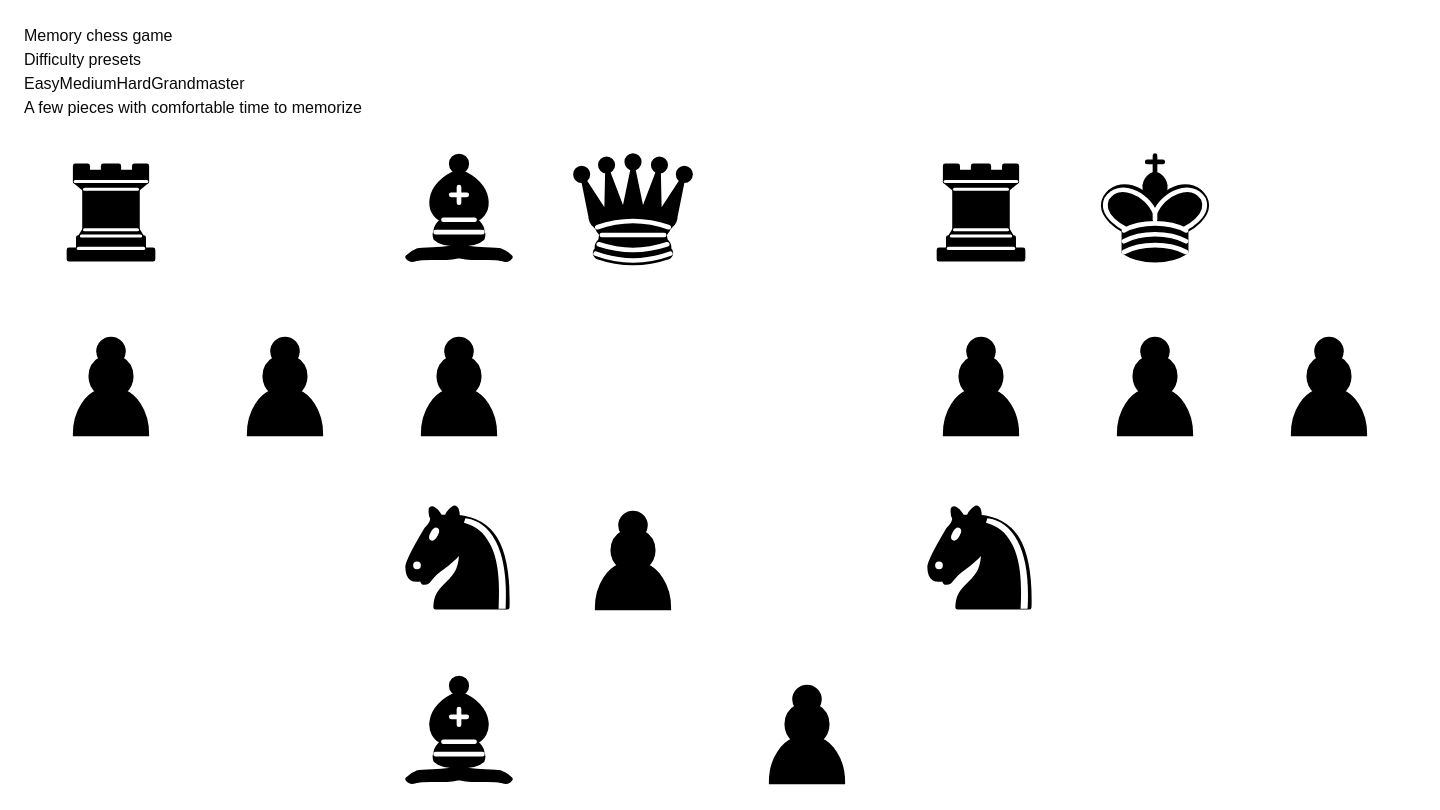
rating preview on the setup card › sums up the board in one line and keeps the details closed until asked
Click the button "Hard" at (134, 84), box left=116, top=72, right=151, bottom=96
(page scrolled)
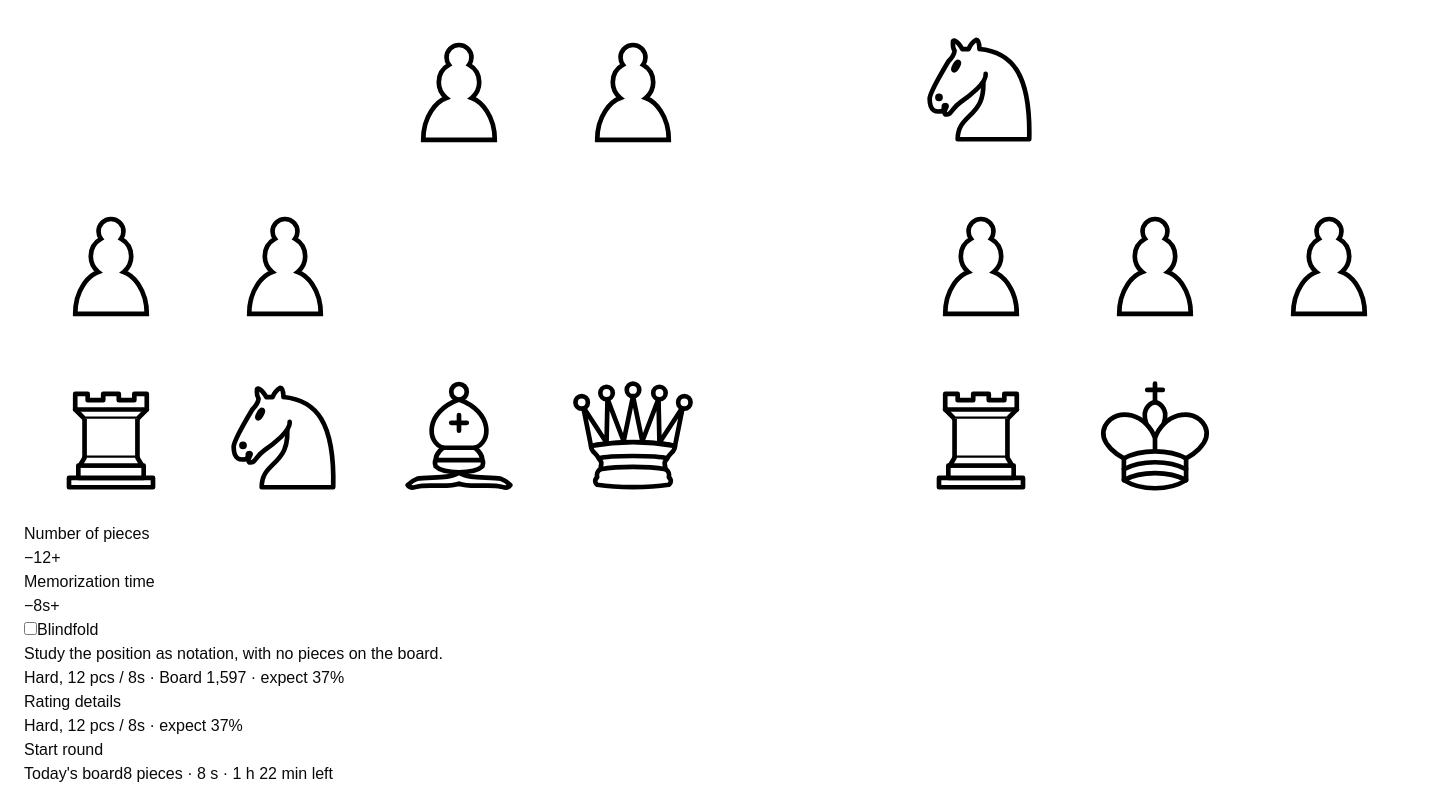
Click the button "Rating details" at (72, 702), box left=24, top=690, right=121, bottom=714
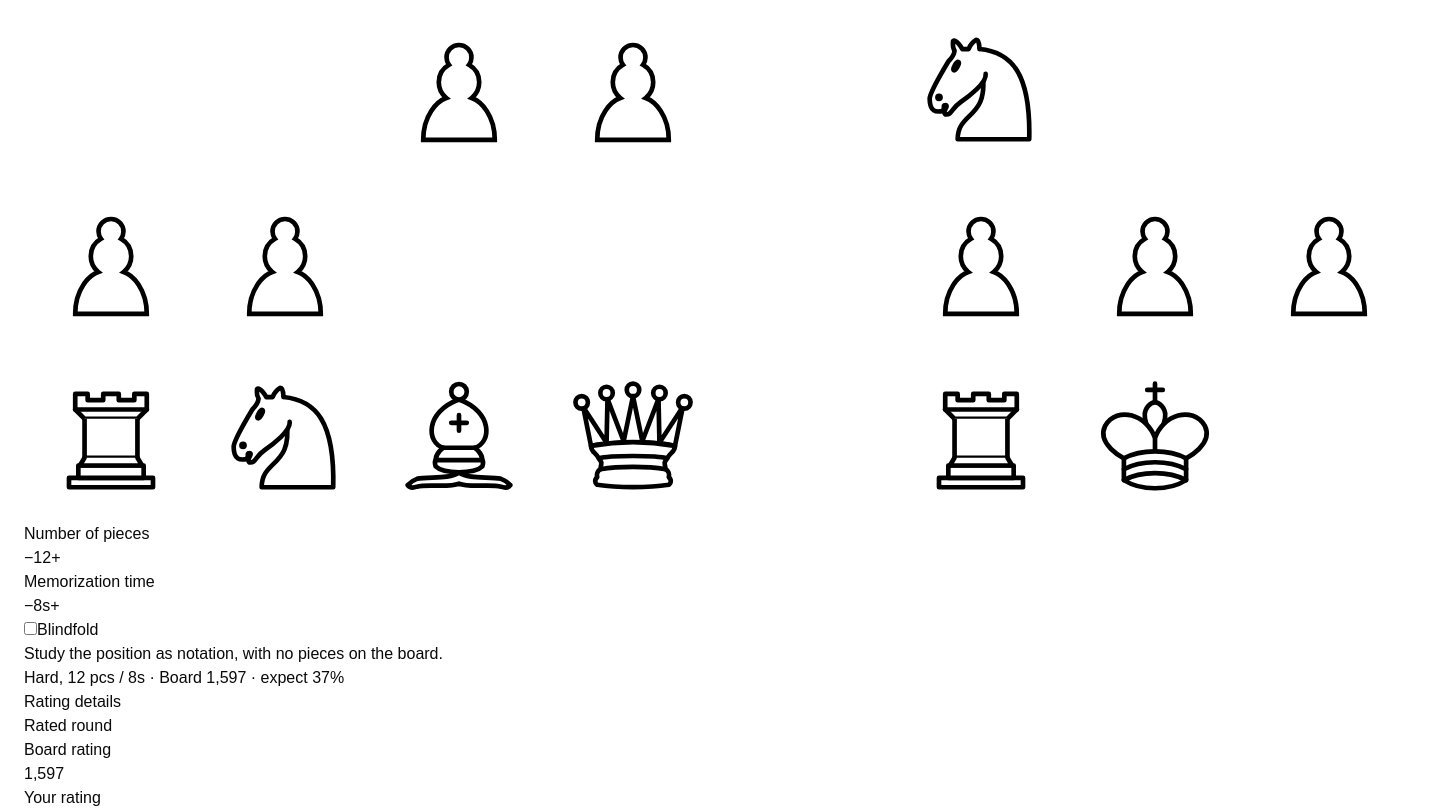
Expected: the element showing "1,597" is shown, left=24, top=765, right=64, bottom=782
